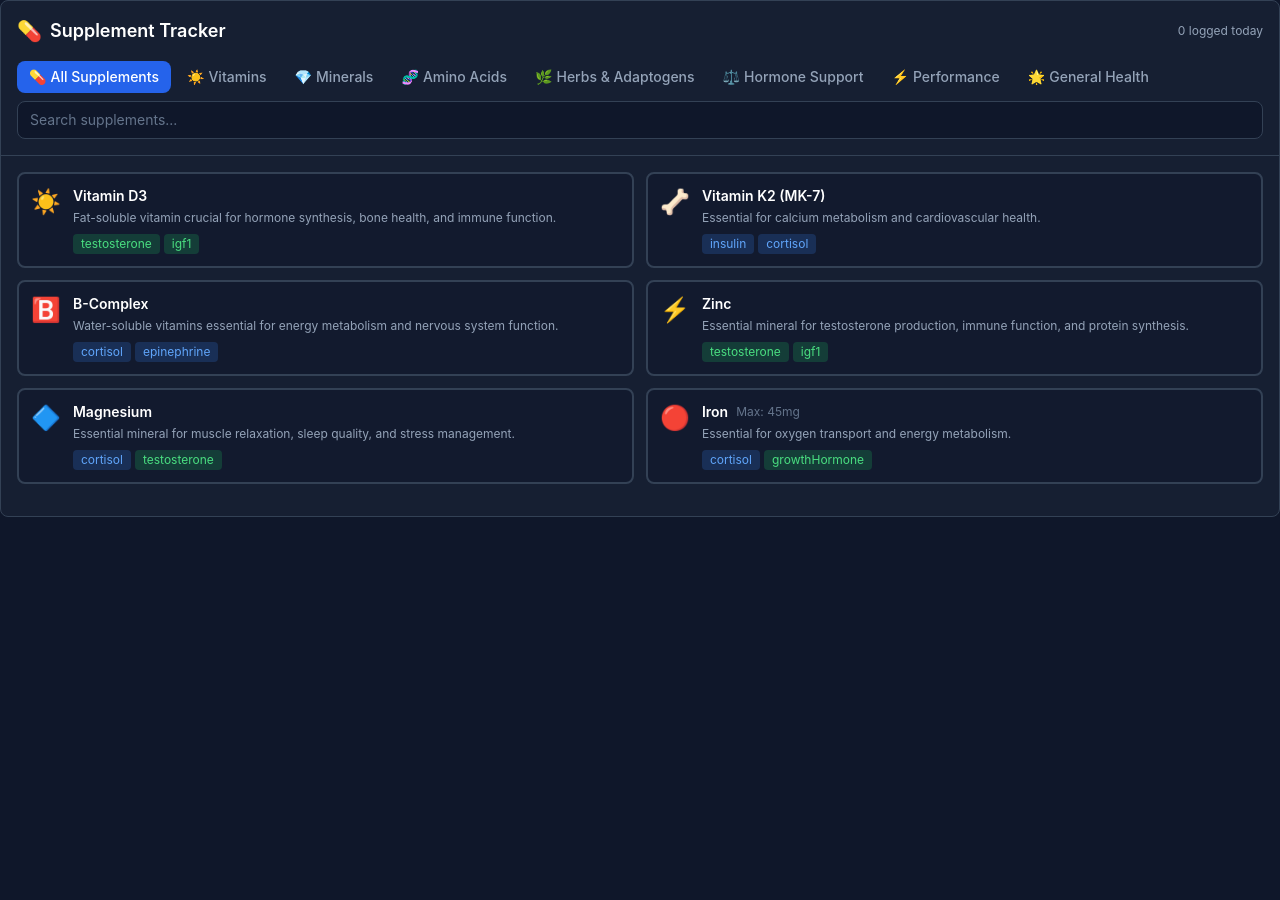
Scenario: SupplementTracker › should show log button when supplement is selected
Click the option "Vitamin D3" at (326, 220), box left=17, top=172, right=634, bottom=268
(page scrolled)
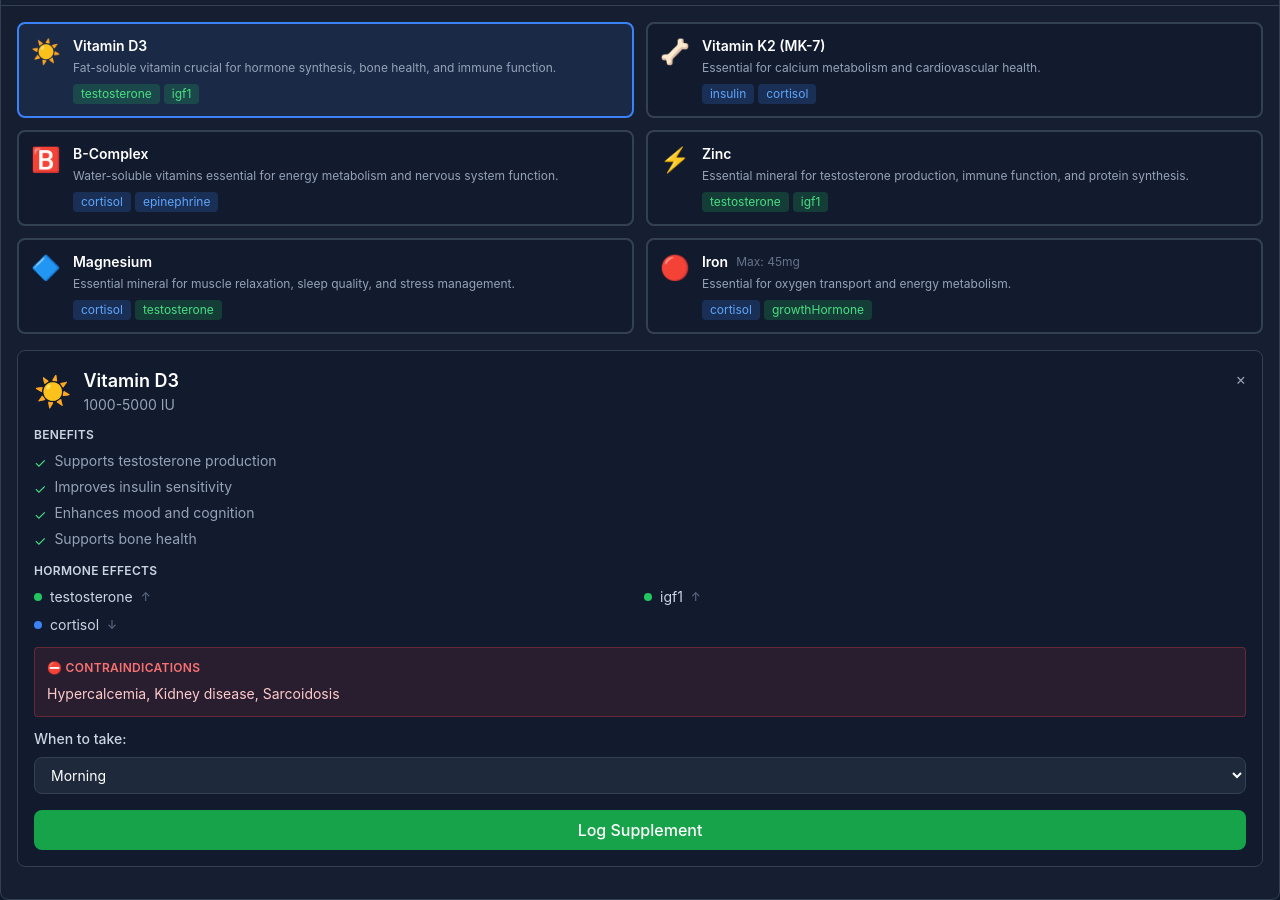
Check: the button "Log Supplement" is shown, box left=34, top=810, right=1246, bottom=850
